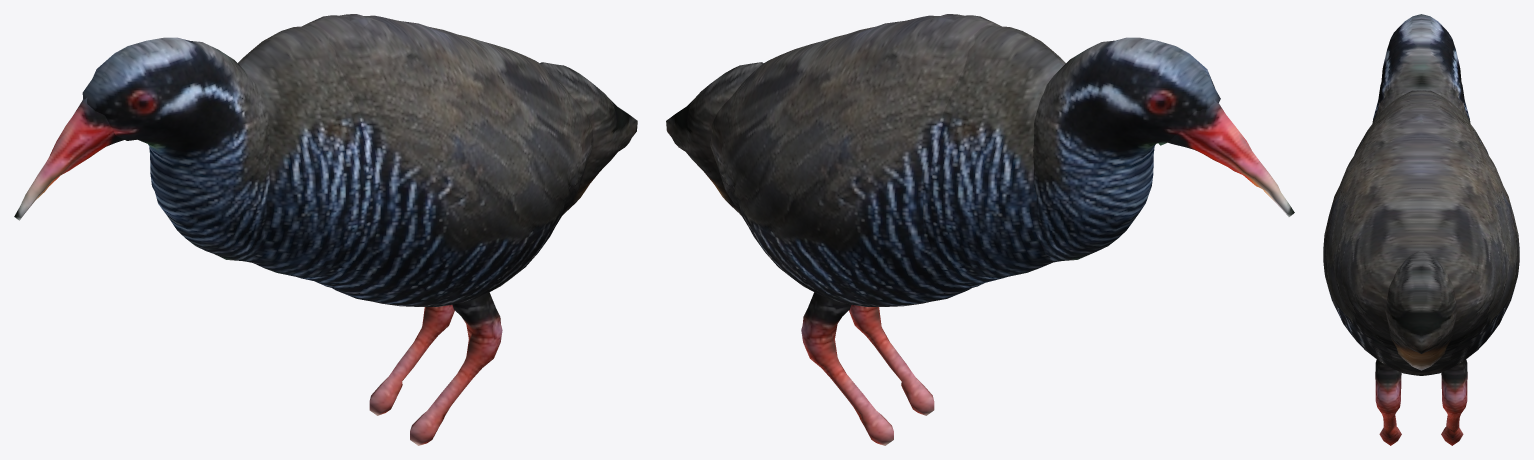
The model's file is bird.glb.
The picture shows the model from 3 angles, left to right: view 1: azimuth 30°, elevation 25°; view 2: azimuth 150°, elevation 25°; view 3: azimuth 270°, elevation 25°; orthographic projection. The views are drawn at different scales.
Visible parts, largest first — view 1: Object_2; view 2: Object_2; view 3: Object_2.
Boxes of the visible parts, bbox=[...] form: Object_2: bbox=[14, 14, 637, 445]; Object_2: bbox=[666, 14, 1294, 445]; Object_2: bbox=[1323, 14, 1519, 445].
Bounding box in the file's own units: 1.26 × 0.8622 × 0.4628.
1 material, 1 textured.
